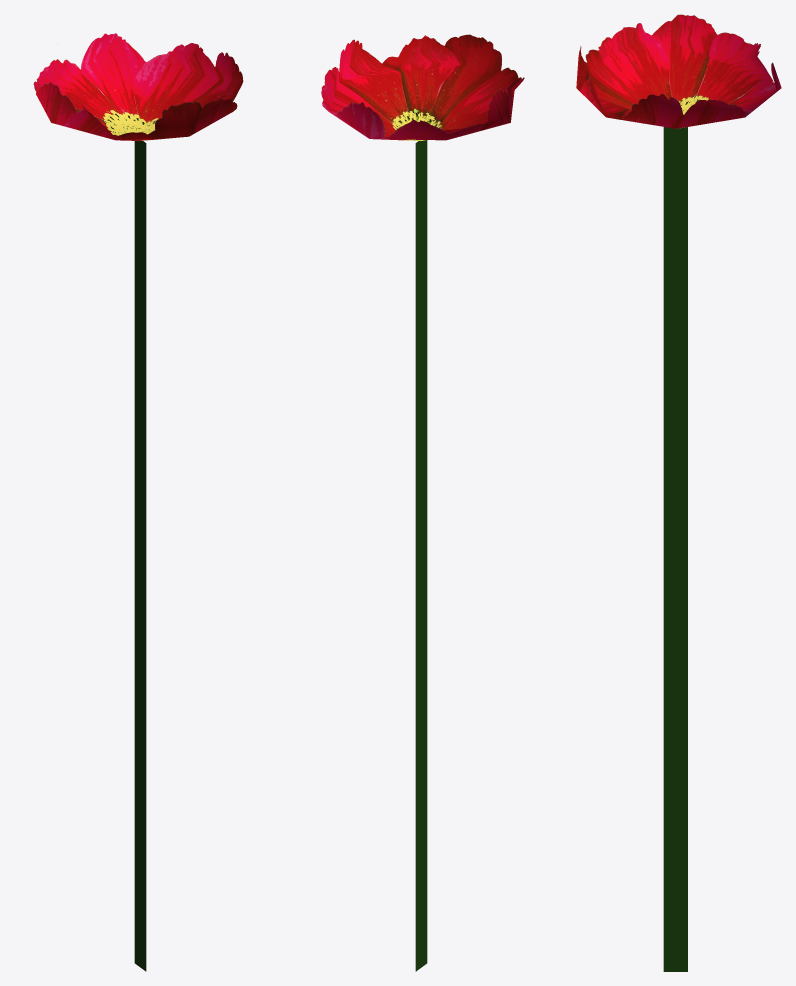
The model's file is flower.fbx.
3 views of the same model, side by side, from view 1: azimuth 30°, elevation 25°; view 2: azimuth 150°, elevation 25°; view 3: azimuth 270°, elevation 25° (orthographic).
Parts seen in each view (by area): view 1: flower; view 2: flower; view 3: flower.
Boxes of the visible parts, left/top/right/bottom form: flower: left=33, top=33, right=243, bottom=971; flower: left=321, top=34, right=524, bottom=971; flower: left=576, top=14, right=781, bottom=971.
Bounding box in the file's own units: 33.03 × 166 × 33.68.
